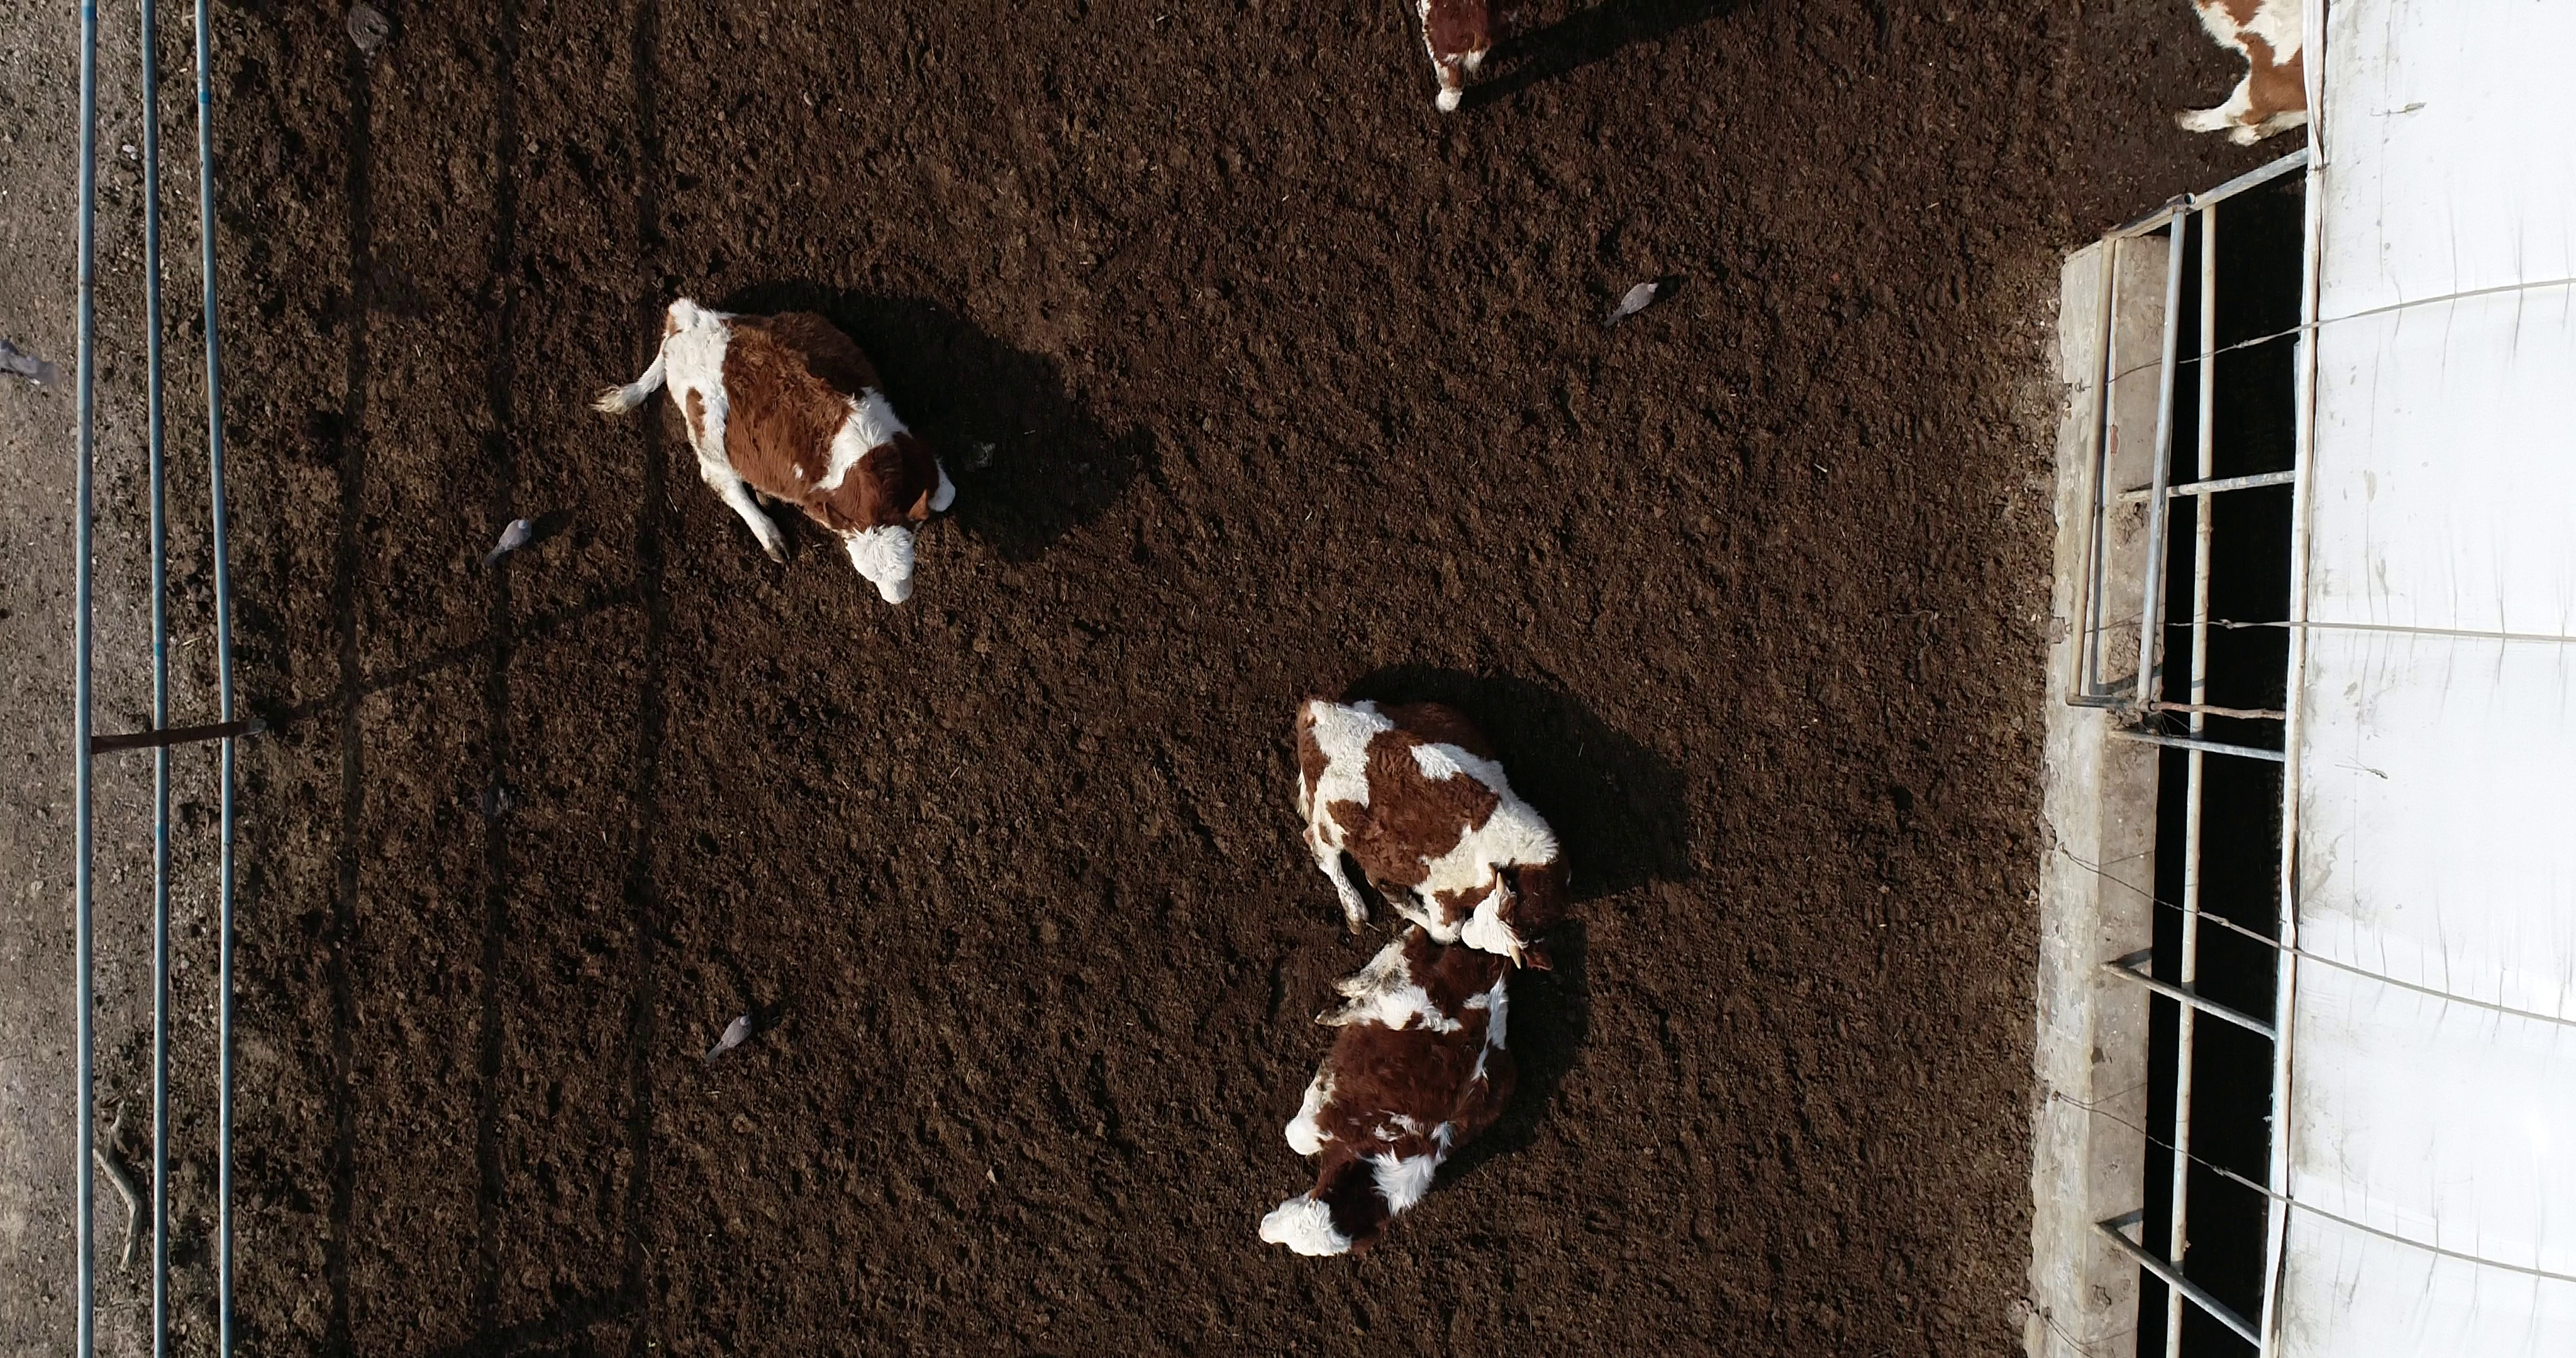cattle: (579, 291, 968, 612), (1283, 688, 1593, 976)
